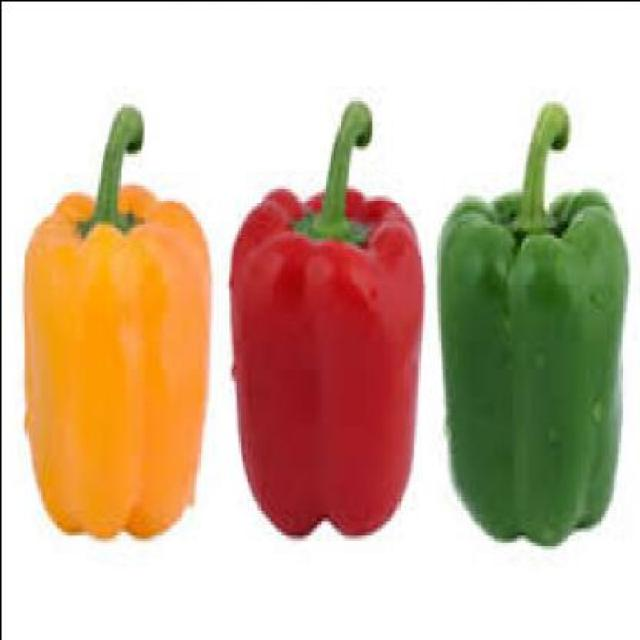BIODEGRADABLE: (231, 101, 424, 535), (439, 104, 628, 545), (25, 106, 210, 537)
